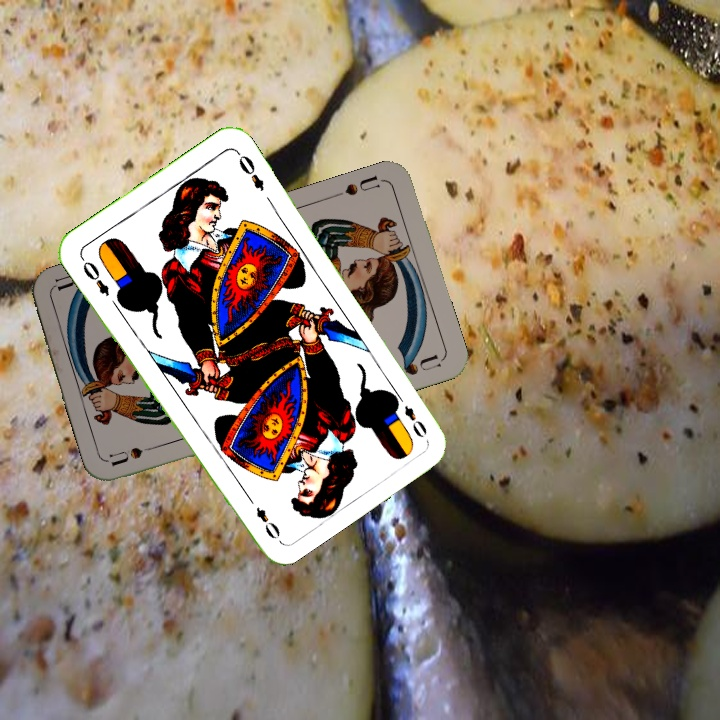EO: (390, 389, 430, 441), (77, 253, 113, 298)
SU: (107, 439, 166, 469), (340, 171, 386, 198)
